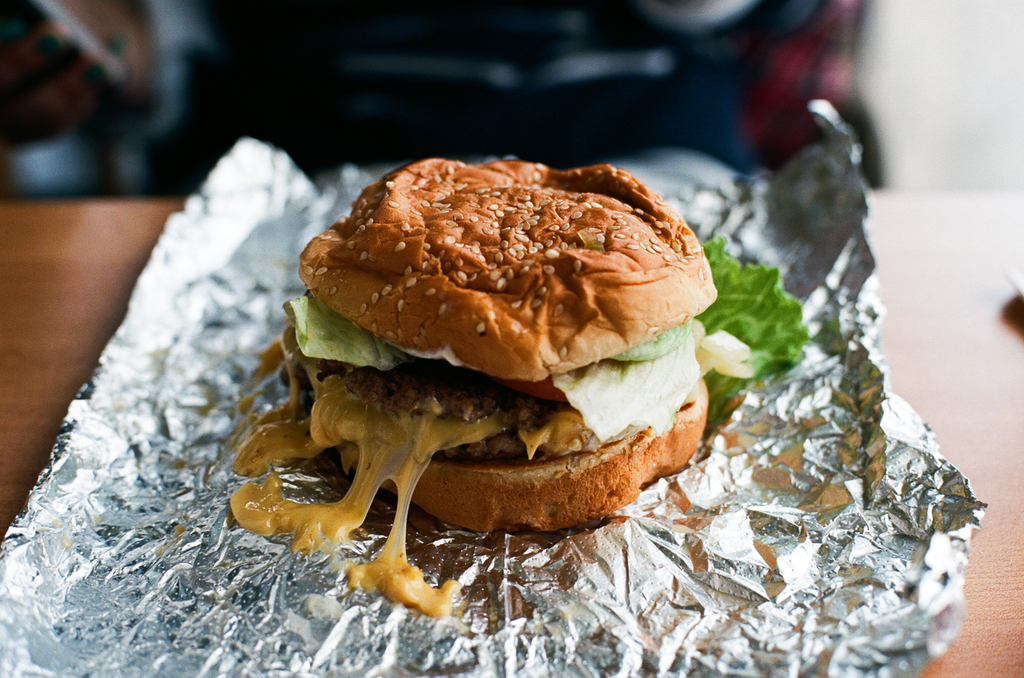Hamburger: (227, 156, 806, 616)
